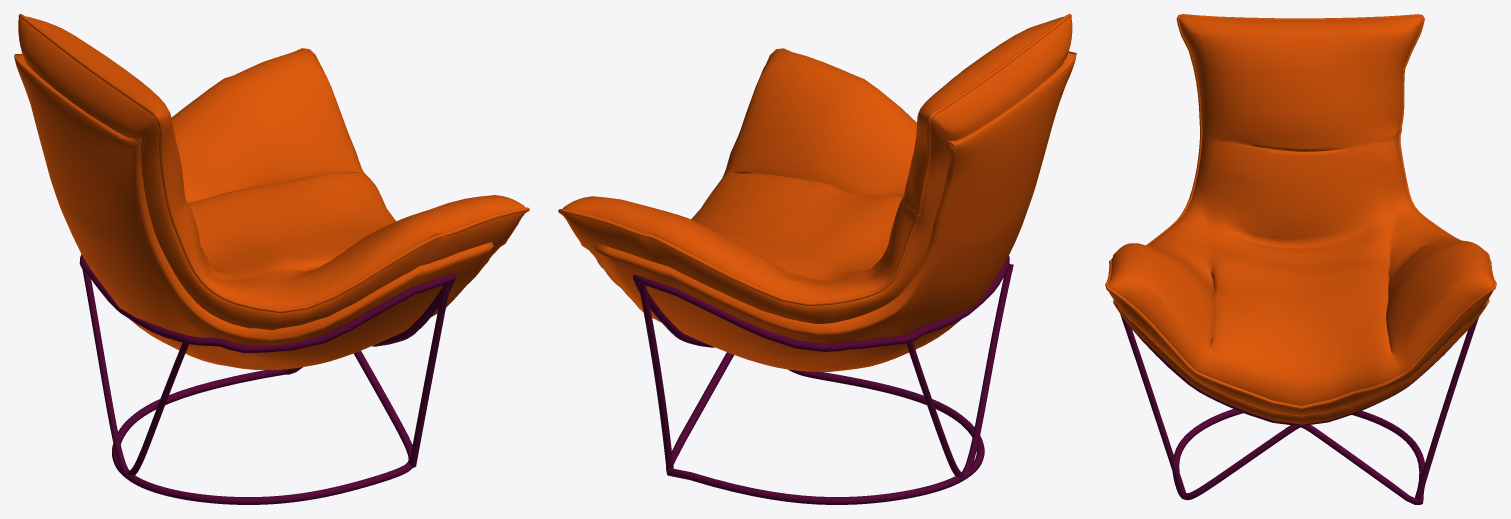
The model's file is XOBC_013_low_poly.fbx.
The picture shows the model from 3 angles, left to right: view 1: azimuth 30°, elevation 25°; view 2: azimuth 150°, elevation 25°; view 3: azimuth 270°, elevation 25°; orthographic projection. The views are drawn at different scales.
Visible parts, largest first — view 1: brown_sofa_low_poly; view 2: brown_sofa_low_poly; view 3: brown_sofa_low_poly.
Part boxes in pixels (box(x1,y1,x2,y2)): brown_sofa_low_poly: box(14, 14, 529, 504); brown_sofa_low_poly: box(558, 14, 1076, 504); brown_sofa_low_poly: box(1105, 14, 1496, 504).
Bounding box in the file's own units: 121 × 136 × 128.
